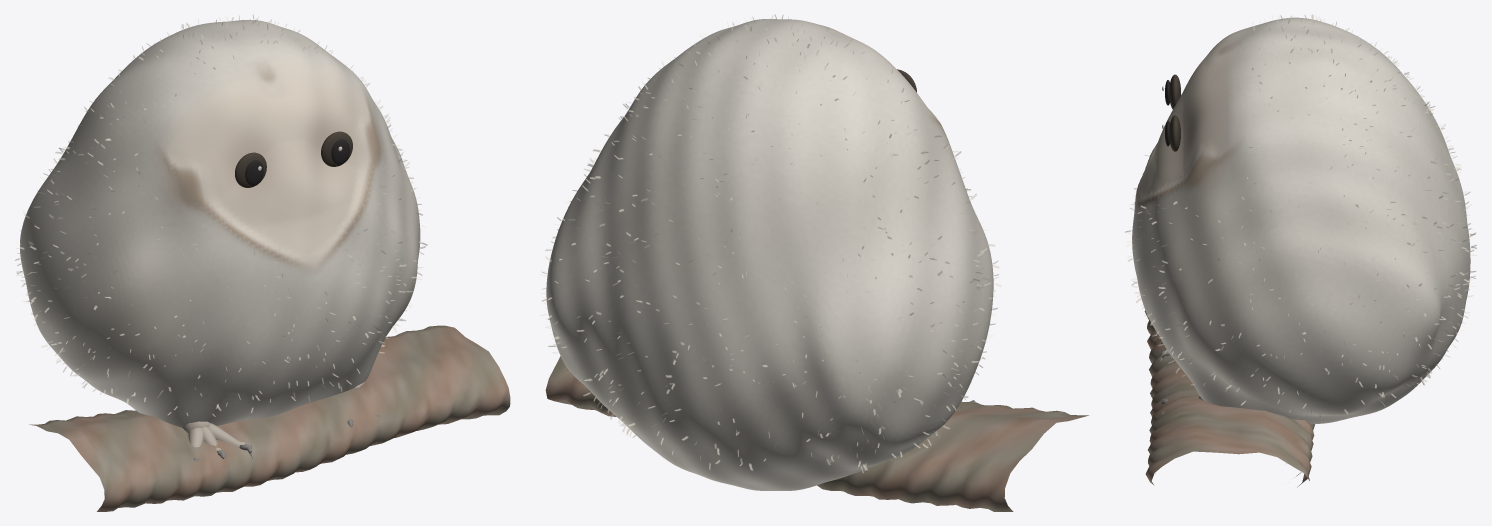
File: owl172_run92_new_sculpt_smooth_REJECTED.glb
3 views of the same model, side by side, from view 1: azimuth 30°, elevation 25°; view 2: azimuth 150°, elevation 25°; view 3: azimuth 270°, elevation 25° (orthographic). The views are drawn at different scales.
Parts seen in each view (by area): view 1: ORGANIC_CONNECTED_HEAD_BODY_HEART_RELIEF, TEMPORARY_BARK_SUPPORT_RESEARCH_ONLY, soft_alpha_mesoptile_research_groom, eye_gloss_dark_-1, eye_gloss_dark_1; view 2: ORGANIC_CONNECTED_HEAD_BODY_HEART_RELIEF, TEMPORARY_BARK_SUPPORT_RESEARCH_ONLY, soft_alpha_mesoptile_research_groom; view 3: ORGANIC_CONNECTED_HEAD_BODY_HEART_RELIEF, TEMPORARY_BARK_SUPPORT_RESEARCH_ONLY, soft_alpha_mesoptile_research_groom.
Boxes of the visible parts, box(x1,y1,x2,y2) form: ORGANIC_CONNECTED_HEAD_BODY_HEART_RELIEF: box(20, 19, 420, 427); TEMPORARY_BARK_SUPPORT_RESEARCH_ONLY: box(29, 325, 510, 511); soft_alpha_mesoptile_research_groom: box(15, 15, 427, 416); eye_gloss_dark_-1: box(235, 152, 266, 187); eye_gloss_dark_1: box(321, 131, 352, 166); ORGANIC_CONNECTED_HEAD_BODY_HEART_RELIEF: box(546, 19, 993, 490); TEMPORARY_BARK_SUPPORT_RESEARCH_ONLY: box(545, 356, 1088, 511); soft_alpha_mesoptile_research_groom: box(540, 15, 1001, 472); ORGANIC_CONNECTED_HEAD_BODY_HEART_RELIEF: box(1132, 17, 1470, 424); TEMPORARY_BARK_SUPPORT_RESEARCH_ONLY: box(1144, 310, 1314, 487); soft_alpha_mesoptile_research_groom: box(1125, 14, 1476, 417).
Size of the model in its own units: 1.3 by 1.27 by 1.
2 materials, 1 textured.
